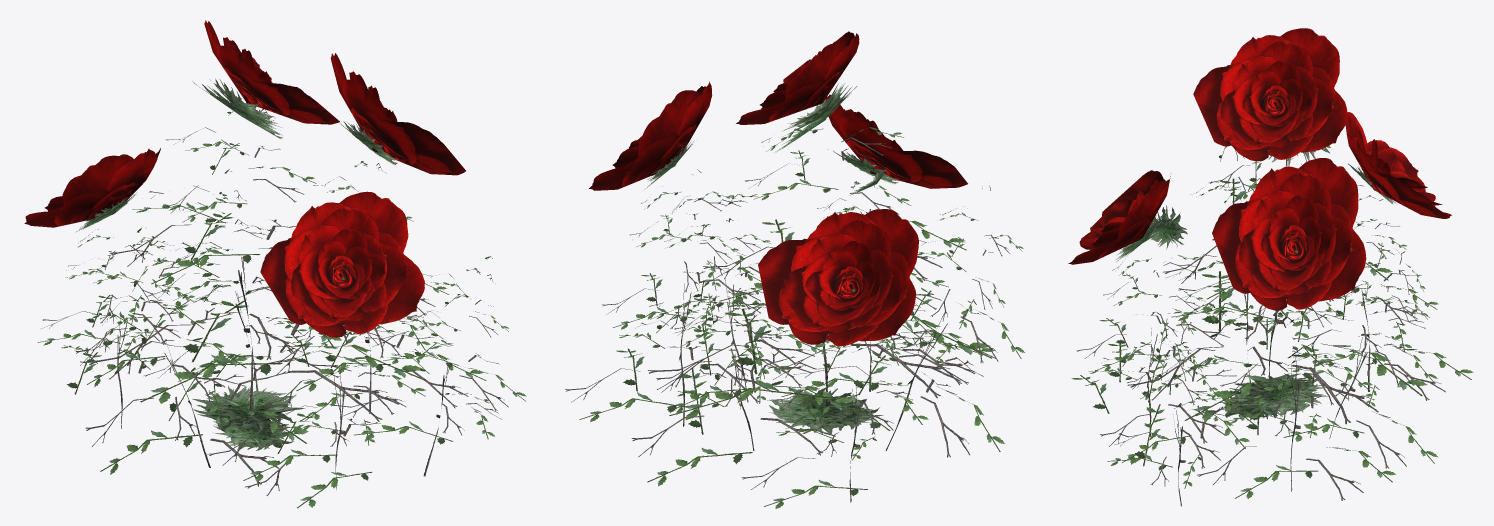
Rendered from VEG0310022.fbx.
The picture shows the model from 3 angles, left to right: view 1: azimuth 30°, elevation 25°; view 2: azimuth 150°, elevation 25°; view 3: azimuth 270°, elevation 25°; orthographic projection. The views are drawn at different scales.
Parts seen in each view (by area): view 1: smVEG0310022; view 2: smVEG0310022; view 3: smVEG0310022.
Part boxes in pixels (x1,y1,x2,y2): smVEG0310022: [24, 20, 526, 508]; smVEG0310022: [565, 31, 1024, 508]; smVEG0310022: [1068, 28, 1473, 506].
Bounding box in the file's own units: 29.35 × 30.56 × 27.65.
Materials: 1 (1 with a texture image).
